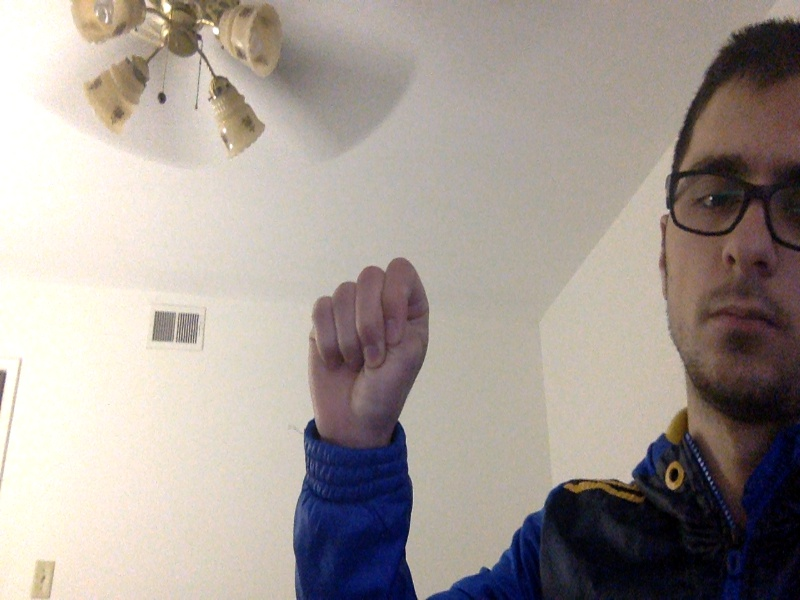0-hand: (308, 257, 432, 438)
